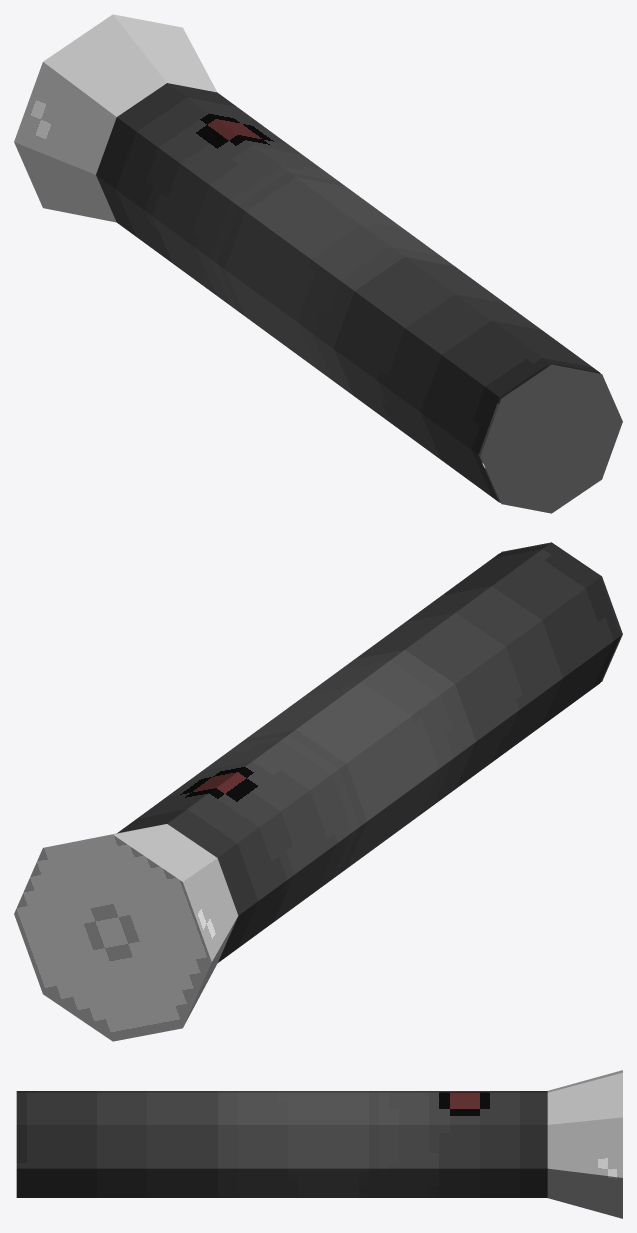
The model's file is flashlight.fbx.
3 views of the same model, one above another, from view 1: azimuth 30°, elevation 25°; view 2: azimuth 150°, elevation 25°; view 3: azimuth 270°, elevation 25° (orthographic). The views are drawn at different scales.
Visible parts, largest first — view 1: flashlight; view 2: flashlight; view 3: flashlight.
Part boxes in pixels (x1=…): flashlight: x1=14, y1=14, x2=622, y2=513; flashlight: x1=14, y1=542, x2=622, y2=1041; flashlight: x1=16, y1=1070, x2=622, y2=1218.
Size of the model in its own units: 4.45 by 4.45 by 17.12.
